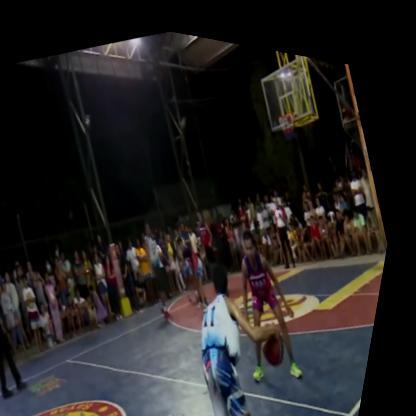basketball: (261, 305, 305, 362)
rim: (271, 89, 311, 141)
